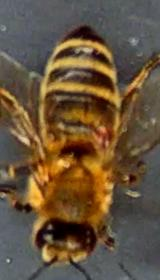varroa_mite: (80, 114, 122, 150)
